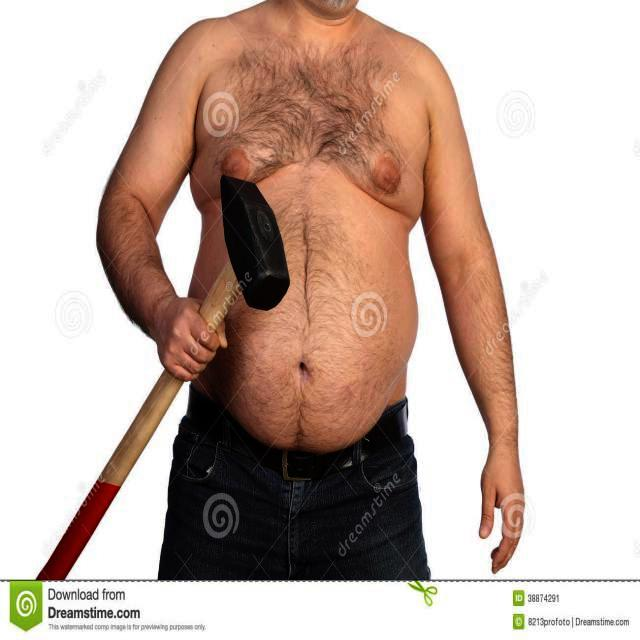hammer: (22, 168, 296, 582)
